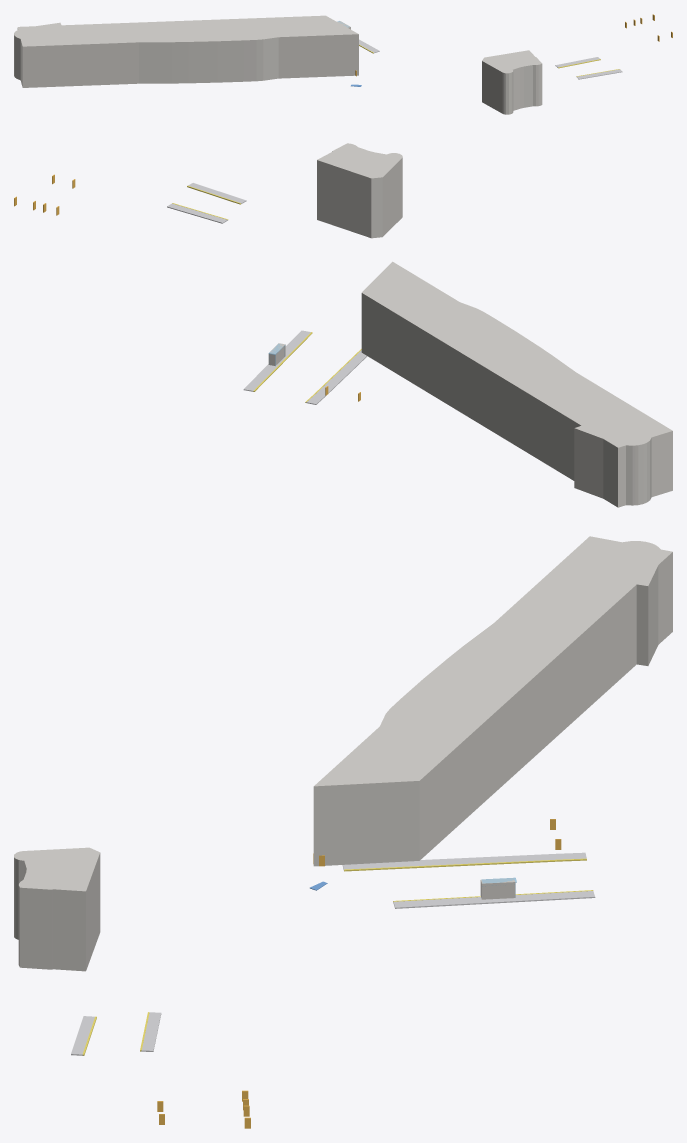
Rendered from 8589992-bern-sulgenau.glb.
The picture shows the model from 3 angles, top to bottom: view 1: azimuth 30°, elevation 25°; view 2: azimuth 150°, elevation 25°; view 3: azimuth 270°, elevation 25°; orthographic projection. The views are drawn at different scales.
Parts seen in each view (by area): view 1: building_part@x, platform_body@0; view 2: building_part@x, platform_body@0; view 3: building_part@x, platform_body@0, boarding_edge@0.
Boxes of the visible parts, x1=… form: building_part@x: x1=14, y1=15, x2=542, y2=114; platform_body@0: x1=359, y1=39, x2=622, y2=79; building_part@x: x1=268, y1=143, x2=672, y2=507; platform_body@0: x1=167, y1=183, x2=367, y2=404; building_part@x: x1=14, y1=536, x2=672, y2=971; platform_body@0: x1=71, y1=852, x2=595, y2=1055; boarding_edge@0: x1=82, y1=858, x2=593, y2=1055.
Bounding box in the file's own units: 240 × 22.12 × 131.
